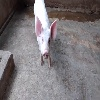heo: (31, 15, 61, 64)
